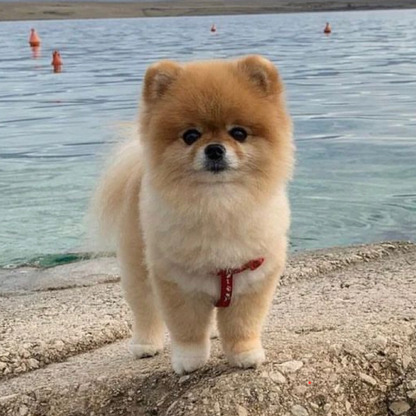Pomeranian: (69, 49, 318, 377)
